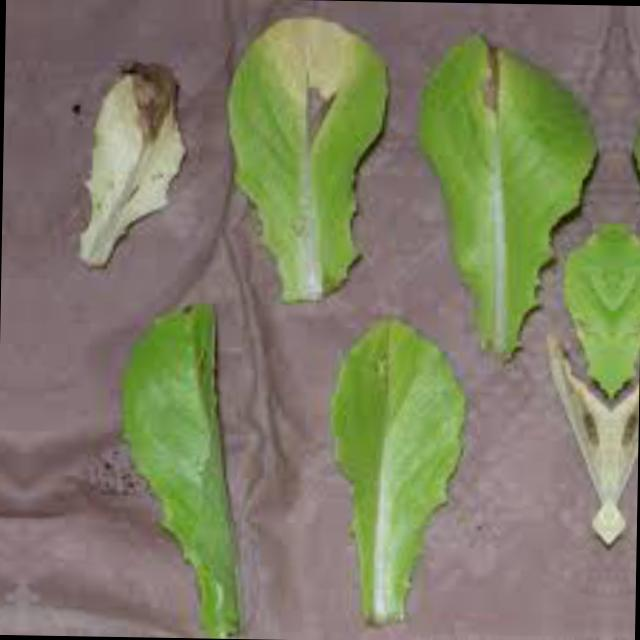Lettuce - Anthracnose: (404, 21, 618, 374), (201, 0, 402, 306), (50, 52, 218, 272), (612, 25, 640, 373), (0, 52, 10, 268)
